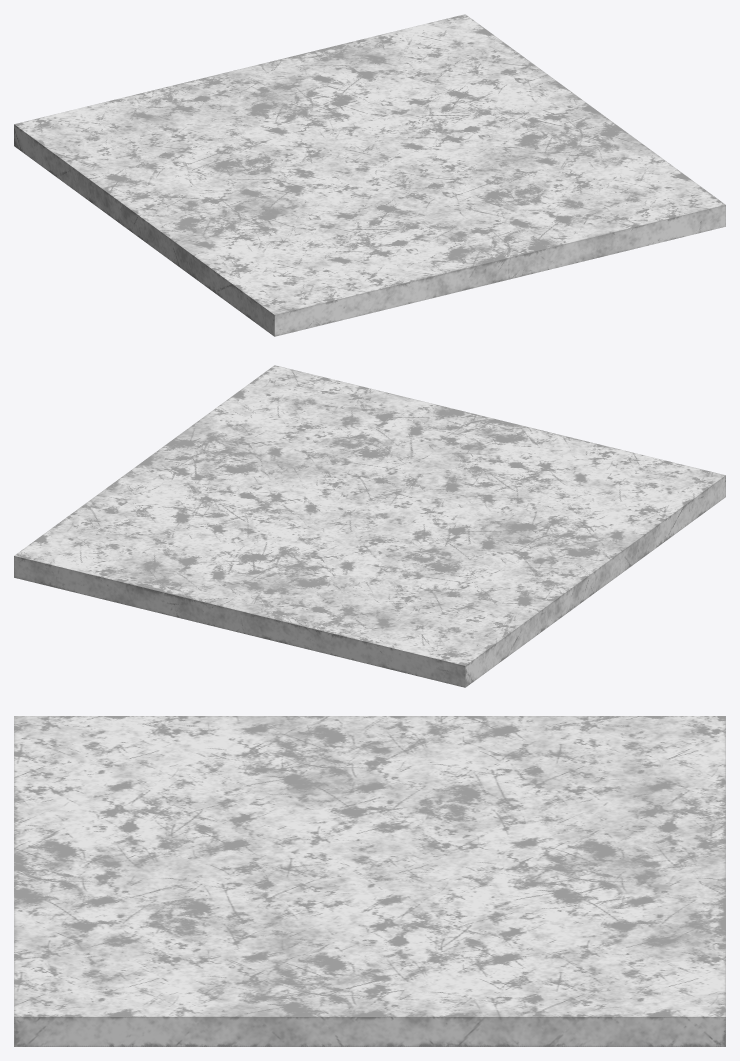
File: Modular_Dungeon_Decke.fbx
3 renders of one model, top to bottom at view 1: azimuth 30°, elevation 25°; view 2: azimuth 150°, elevation 25°; view 3: azimuth 270°, elevation 25°, orthographic. The views are drawn at different scales.
Parts seen in each view (by area): view 1: Deckenelement; view 2: Deckenelement; view 3: Deckenelement.
Boxes of the visible parts, box(x1,y1,x2,y2) form: Deckenelement: box(14, 14, 725, 336); Deckenelement: box(14, 365, 725, 687); Deckenelement: box(14, 716, 725, 1046).
Size of the model in its own units: 280 by 14.69 by 280.
